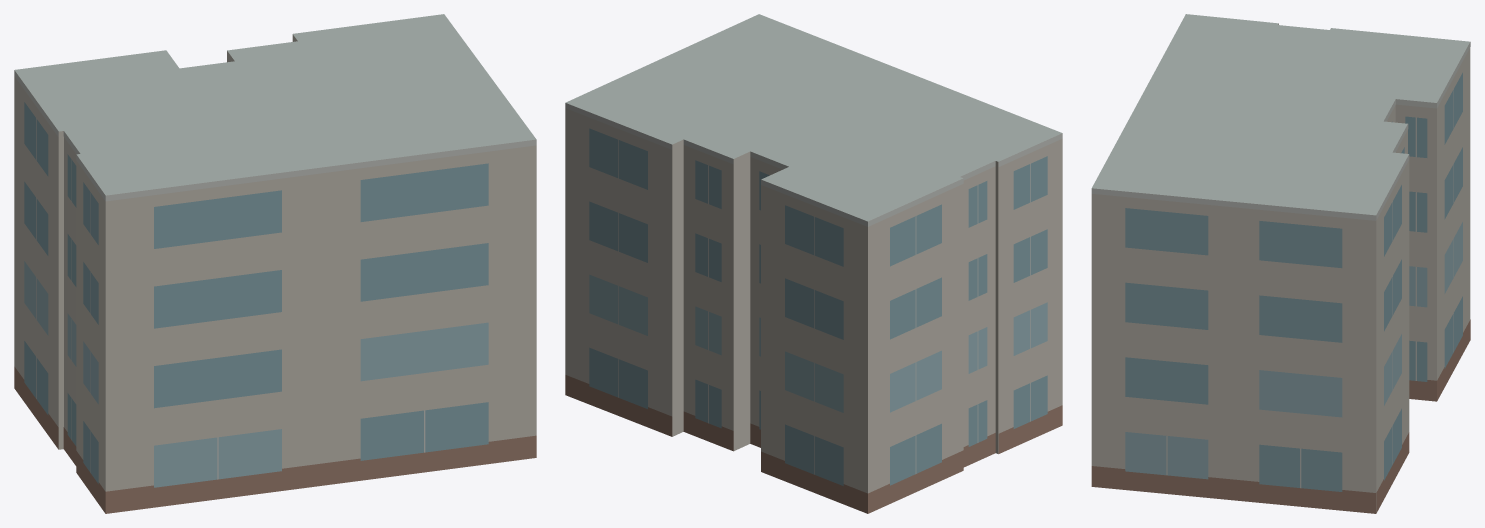
Rendered from survey-upis-33038895.glb.
3 renders of one model, left to right at view 1: azimuth 30°, elevation 25°; view 2: azimuth 150°, elevation 25°; view 3: azimuth 270°, elevation 25°, orthographic. The views are drawn at different scales.
Visible parts, largest first — view 1: survey-upis-33038895.tmp; view 2: survey-upis-33038895.tmp; view 3: survey-upis-33038895.tmp.
Part boxes in pixels (x1,y1,x2,y2): survey-upis-33038895.tmp: [14, 14, 536, 513]; survey-upis-33038895.tmp: [565, 14, 1062, 513]; survey-upis-33038895.tmp: [1091, 14, 1470, 513].
Size of the model in its own units: 19.18 by 13.25 by 15.25.
